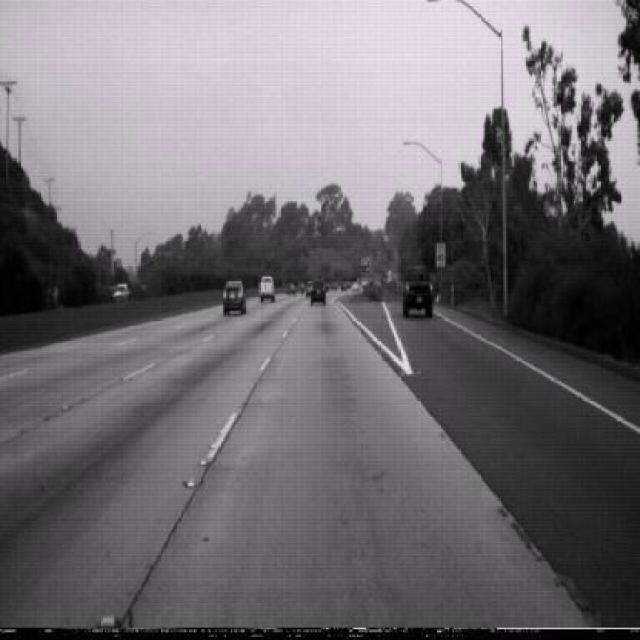rampSpeedAdvisory45: (435, 241, 446, 269)
